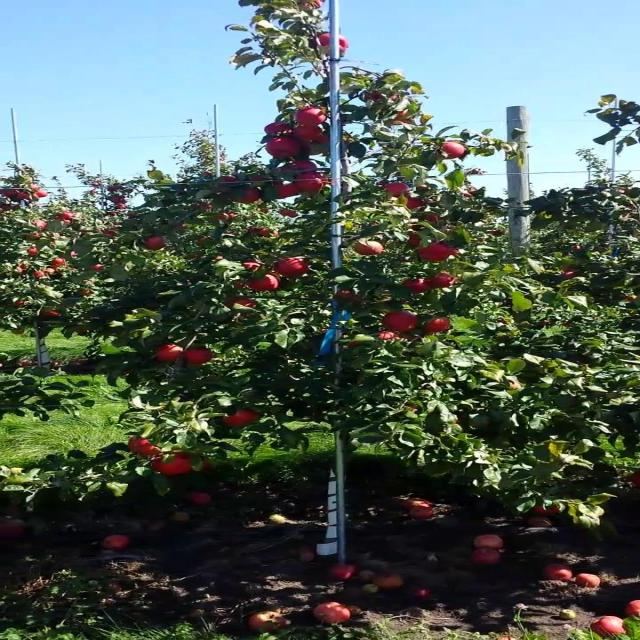apple: (419, 244, 460, 263), (383, 312, 420, 332), (156, 456, 192, 476), (127, 440, 164, 457), (298, 172, 329, 192), (269, 140, 299, 160), (319, 36, 348, 56), (276, 260, 311, 276), (156, 344, 185, 363), (227, 412, 261, 428), (305, 136, 332, 155), (248, 276, 279, 292), (184, 348, 213, 365), (440, 144, 469, 160), (426, 272, 455, 288), (298, 108, 327, 124), (234, 188, 263, 204), (404, 280, 428, 295), (532, 504, 562, 516), (426, 320, 453, 333), (355, 244, 384, 256), (291, 160, 320, 172), (276, 184, 299, 199), (298, 128, 324, 140), (148, 236, 167, 252), (269, 124, 292, 136), (340, 292, 363, 304), (390, 184, 411, 197), (390, 112, 412, 124), (227, 300, 256, 308), (241, 264, 263, 272), (248, 176, 268, 184), (220, 176, 238, 184), (383, 332, 400, 340), (412, 200, 427, 208), (426, 216, 441, 224), (369, 92, 384, 100), (561, 272, 576, 279), (298, 4, 322, 8), (419, 184, 430, 192), (412, 236, 421, 245), (6, 192, 18, 197)
